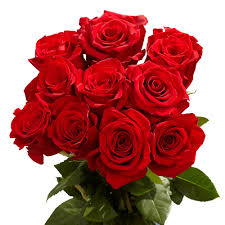lale: (94, 109, 156, 209), (0, 100, 61, 170), (147, 18, 211, 79), (76, 7, 148, 60), (153, 115, 207, 183), (134, 58, 188, 121), (71, 52, 132, 105), (44, 107, 102, 161), (33, 58, 80, 103), (33, 30, 97, 62)
